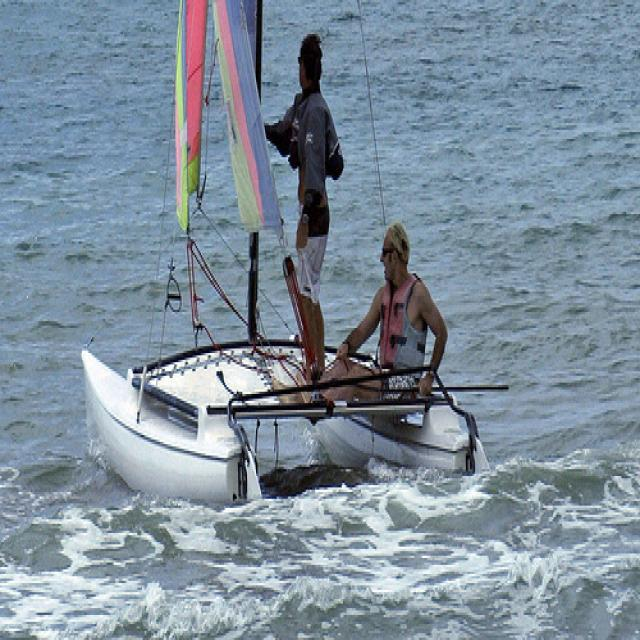Ship: (69, 1, 492, 514)
